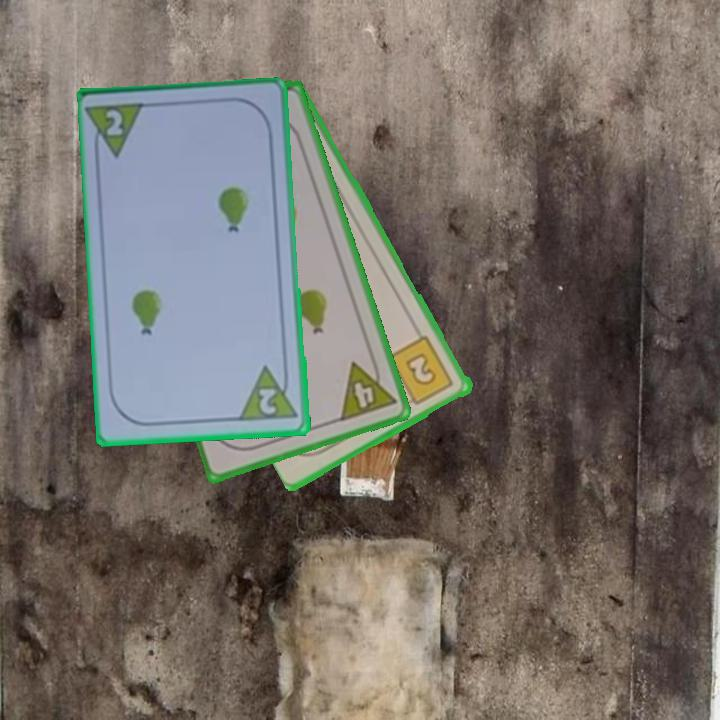2b: (386, 332, 457, 408)
2p: (236, 362, 301, 425), (102, 106, 126, 139)
4p: (336, 352, 399, 425)
